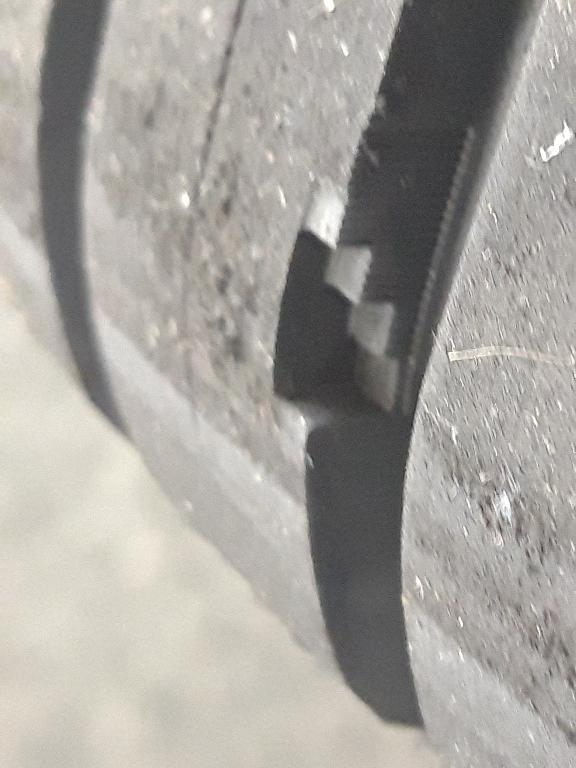temoin:75: (259, 167, 461, 452)
